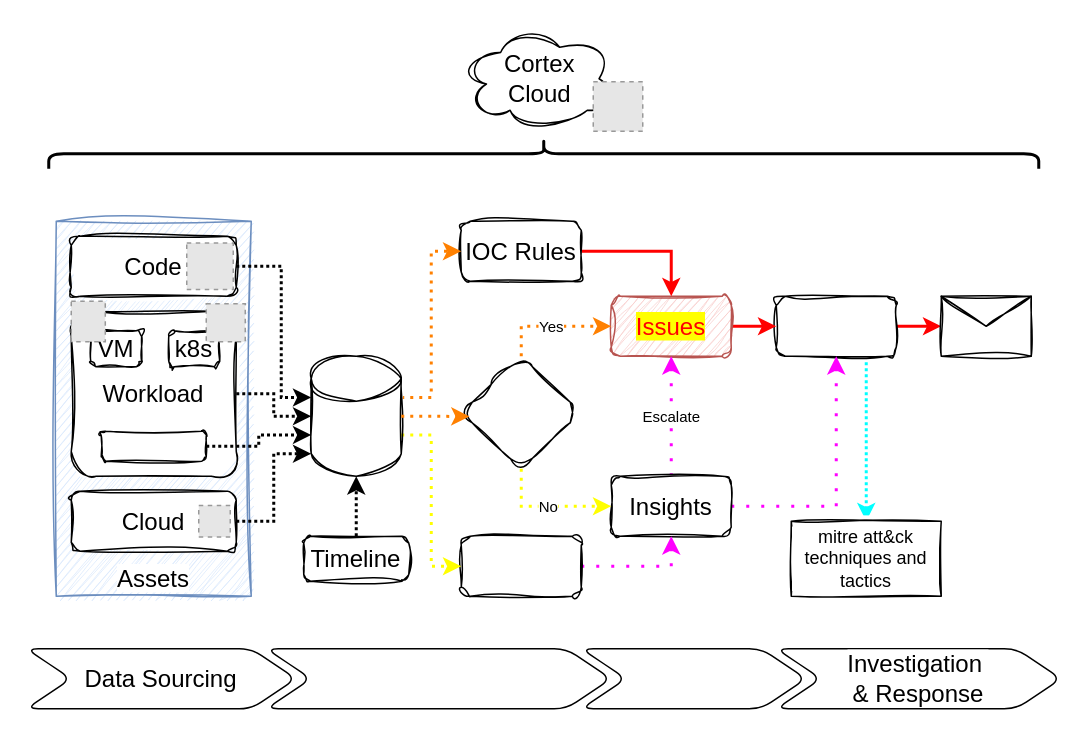
Image size: 1088x735. Some labels were removed from this diagram. Grey dashed boxes stand in for pictures. The shapes that lost their labels are listed below. From the top down, each one's box as (x1, y1, x2, y2) in pixels, then its label:
(775, 295, 896, 356): Case
(310, 355, 401, 476): Security Data Lake
(460, 355, 581, 469): Custom Rules
(100, 430, 206, 461): Artifacts
(460, 535, 581, 596): BIOC Rules
(265, 647, 611, 709): Treat Management
(580, 647, 806, 709): Detection
